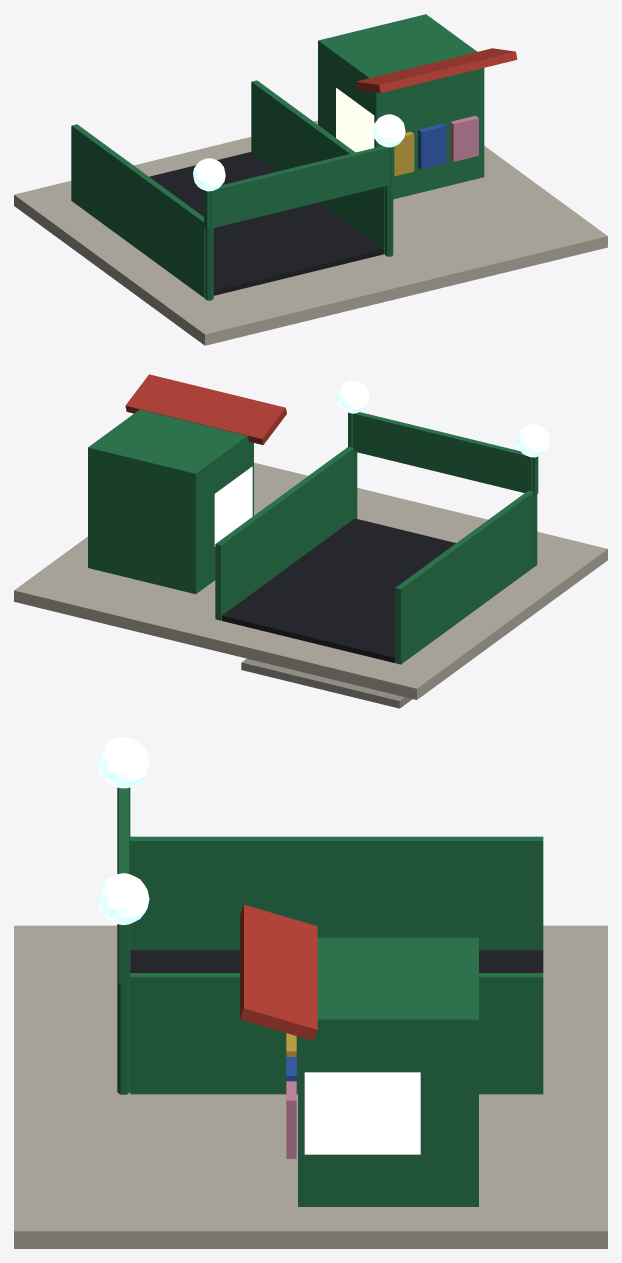
File: messaging-subway.glb
The picture shows the model from 3 angles, top to bottom: view 1: azimuth 30°, elevation 25°; view 2: azimuth 150°, elevation 25°; view 3: azimuth 270°, elevation 25°; orthographic projection. The views are drawn at different scales.
Parts seen in each view (by area): view 1: cw_paint, cw_glow, cw_neon; view 2: cw_paint, cw_glow, cw_neon; view 3: cw_paint, cw_glow, cw_neon.
Boxes of the visible parts, x1,y1,x2,y2 form: cw_paint: (14, 14, 607, 345); cw_glow: (336, 88, 374, 152); cw_neon: (193, 114, 405, 191); cw_paint: (14, 374, 607, 708); cw_glow: (214, 466, 252, 546); cw_neon: (337, 380, 549, 457); cw_paint: (14, 787, 607, 1248); cw_glow: (304, 1072, 420, 1154); cw_neon: (98, 737, 149, 924).
Bounding box in the file's own units: 5.6 × 2.6 × 4.6.
